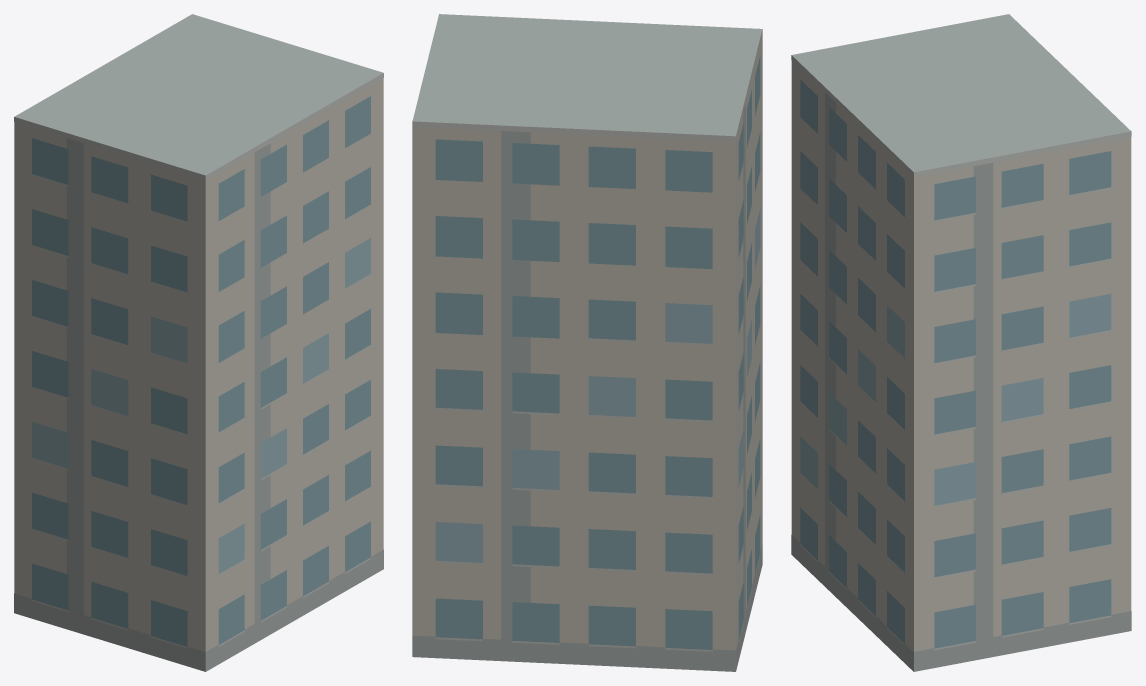
Rendered from survey-upis-32701733.glb.
The picture shows the model from 3 angles, left to right: view 1: azimuth 30°, elevation 25°; view 2: azimuth 150°, elevation 25°; view 3: azimuth 270°, elevation 25°; orthographic projection. The views are drawn at different scales.
Visible parts, largest first — view 1: survey-upis-32701733.tmp; view 2: survey-upis-32701733.tmp; view 3: survey-upis-32701733.tmp.
Boxes of the visible parts, x1,y1,x2,y2 form: survey-upis-32701733.tmp: (14, 14, 383, 671); survey-upis-32701733.tmp: (412, 14, 762, 671); survey-upis-32701733.tmp: (791, 14, 1131, 671).
Size of the model in its own units: 16.05 by 23.6 by 14.56.
